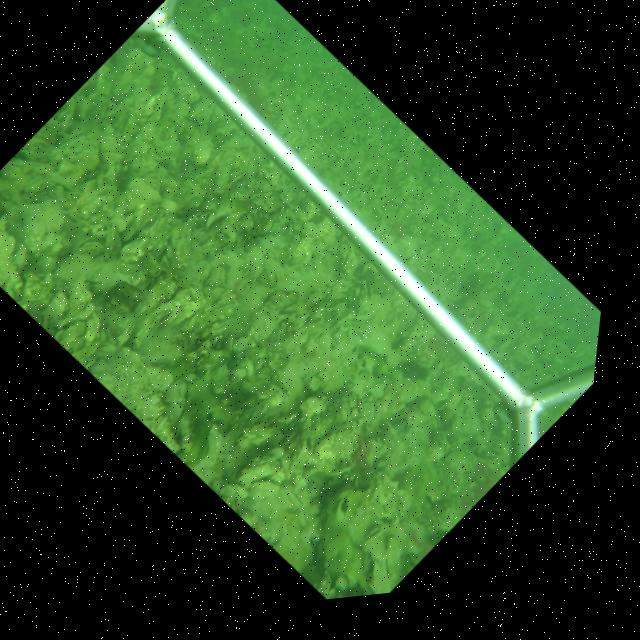Oyster-Closed: (133, 304, 175, 352), (236, 455, 281, 486), (165, 380, 188, 432), (116, 322, 135, 345), (355, 279, 369, 308), (327, 299, 347, 310), (225, 336, 233, 353)
Oyster-Open: (71, 235, 105, 257), (361, 523, 386, 546)
